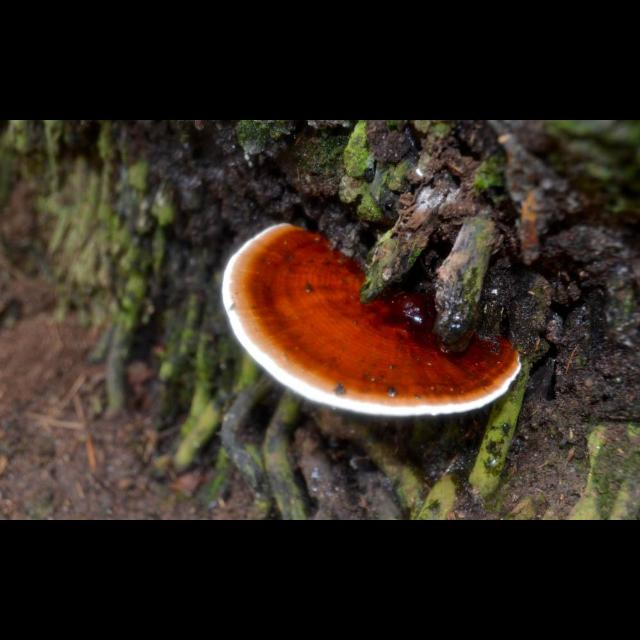ganoderma: (222, 223, 524, 422)
